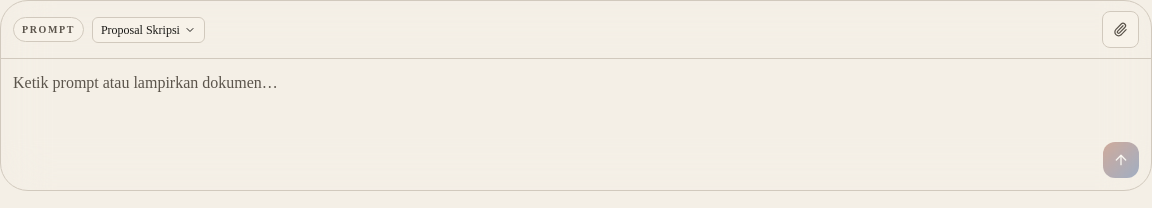
Composer — submit button › button is enabled for short non-empty input
The image size is (1152, 208).
Type "short" into the text box named "tempel proposal". click: [576, 97]
box: [13,71,1139,123]
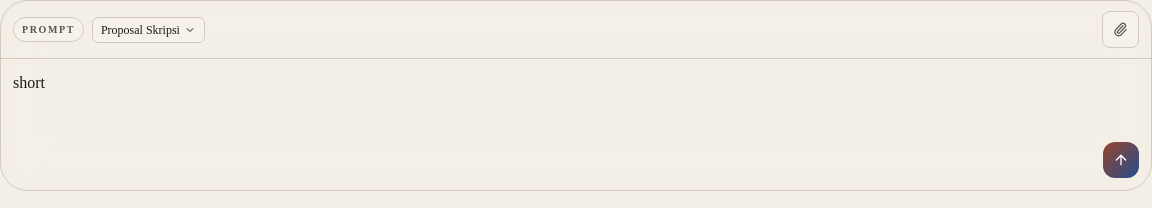
Expected: the button named "mulai review" is enabled, [1103,142,1139,178]
